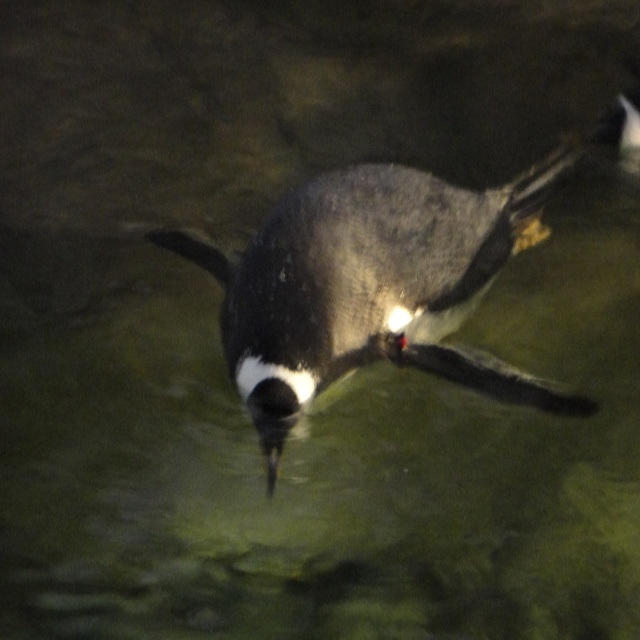Penguin: (134, 142, 556, 502)
